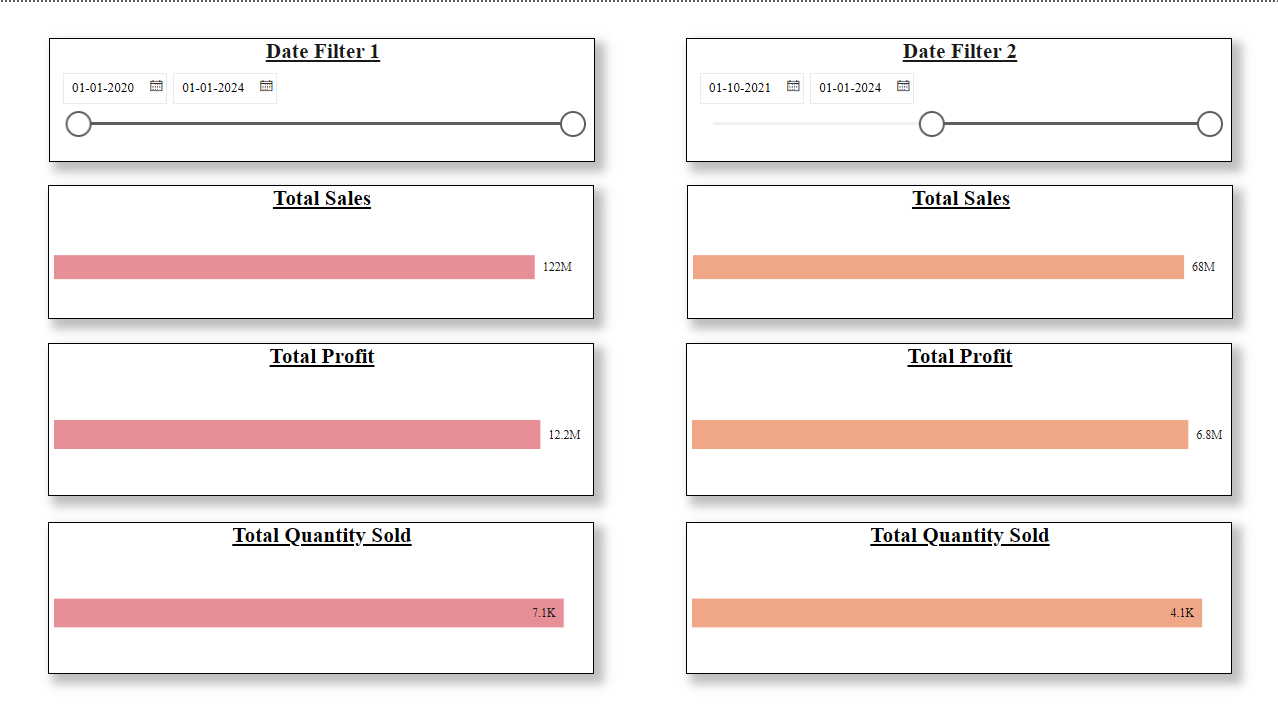

Layout of this report page (visuals, bound fields, positions):
{"tool":"powerbi","page":{"name":"Comparison Sales/Profit/Quantity Approach 2","canvas":[1280,720],"ordinal":3},"visuals":[{"type":"slicer","title":"Date Filter 1","fields":{"Values":["Fact Table.Date (dd/mm/yyyy)"]},"box":[49,36,546,124],"z":0},{"type":"slicer","title":"Date Filter 2","fields":{"Values":["Fact Table.Date (dd/mm/yyyy)"]},"box":[686,36,546,124],"z":1000},{"type":"barChart","title":"Total Sales","fields":{"Y":["Sum(Fact Table.Net Sales)"]},"box":[47.8,183.3,546.7,133.3],"z":2000},{"type":"barChart","title":"Total Profit","fields":{"Y":["Sum(Fact Table.Profit)"]},"box":[47.8,341.1,546.7,153.3],"z":3000},{"type":"barChart","title":"Total Quantity Sold","fields":{"Y":["Sum(Fact Table.Units Sold)"]},"box":[47.8,520,546.7,152.2],"z":4000},{"type":"barChart","title":"Total Quantity Sold","fields":{"Y":["Sum(Fact Table.Units Sold)"]},"box":[685.6,520,546.7,152.2],"z":5000},{"type":"barChart","title":"Total Profit","fields":{"Y":["Sum(Fact Table.Profit)"]},"box":[685.6,341.1,546.7,153.3],"z":6000},{"type":"barChart","title":"Total Sales","fields":{"Y":["Sum(Fact Table.Net Sales)"]},"box":[687,183,546,134],"z":7000}]}

Visuals, with their boxes in screenshot pixels (x1, y1, x2, y2), scaled from the page's 1280x720 canvas onto the 1278x722 screenshot:
"Date Filter 1" slicer: [49,36,594,160]
"Date Filter 2" slicer: [685,36,1230,160]
"Total Sales" barChart: [48,184,594,317]
"Total Profit" barChart: [48,342,594,496]
"Total Quantity Sold" barChart: [48,521,594,674]
"Total Quantity Sold" barChart: [685,521,1230,674]
"Total Profit" barChart: [685,342,1230,496]
"Total Sales" barChart: [686,184,1231,318]
